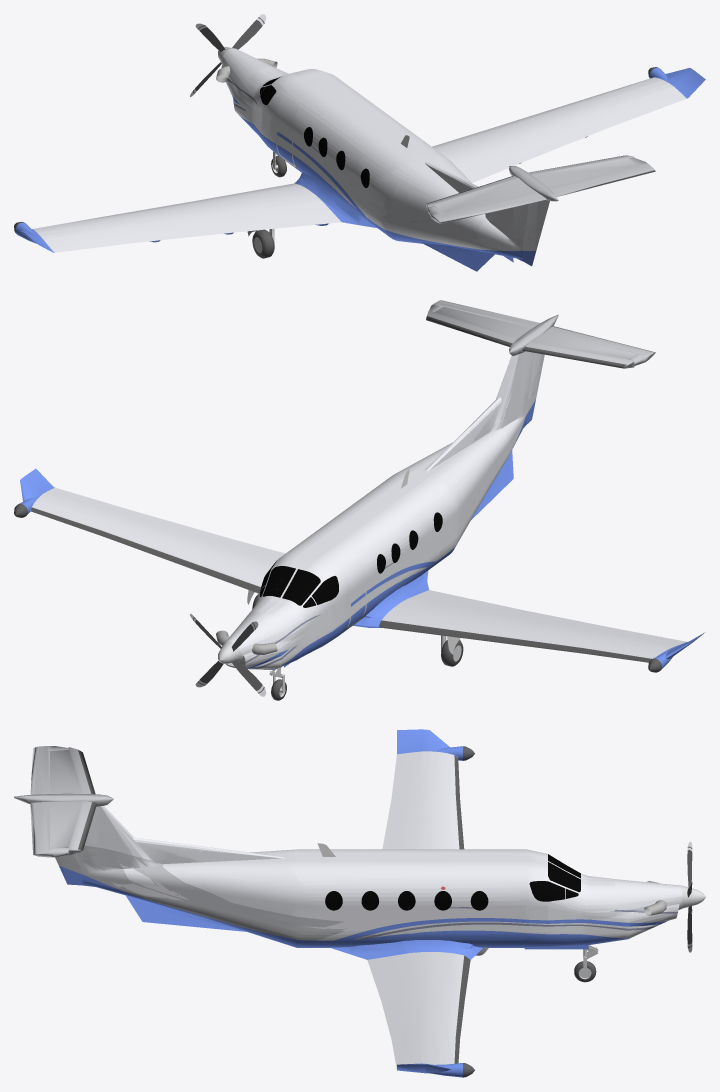
Rendered from pilatus_pc-12_ngx.glb.
3 views of the same model, one above another, from view 1: azimuth 30°, elevation 25°; view 2: azimuth 150°, elevation 25°; view 3: azimuth 270°, elevation 25° (orthographic). The views are drawn at different scales.
Parts seen in each view (by area): view 1: Mesh39_Color_000_0, Mesh14_Color_000_0, Mesh5_Color_000_0, Mesh39_Color_I03_0, Group1, Group20, Group10, Mesh39_Translucent_Glass_Gray_0, Mesh5_Color_I03_0, Mesh11_Color_008_0; view 2: Mesh39_Color_000_0, Mesh14_Color_000_0, Mesh5_Color_000_0, Group1, Mesh39_Color_I03_0, Mesh39_Translucent_Glass_Gray_0, Mesh14_Color_008_0, Mesh5_Color_008_0, Mesh39_Color_008_0, Group20, Group10, Mesh5_Color_I03_0; view 3: Mesh39_Color_000_0, Group1, Mesh39_Color_I03_0, Mesh5_Color_000_0, Mesh14_Color_000_0, Mesh39_Translucent_Glass_Gray_0, Group10, Mesh14_Color_I03_0, Group20, Mesh39_Color_H07_0, Mesh5_Color_008_0.
Part boxes in pixels (x1,y1,x2,y2): Mesh39_Color_000_0: [221, 48, 549, 250]; Mesh14_Color_000_0: [33, 183, 341, 252]; Mesh5_Color_000_0: [432, 77, 686, 182]; Mesh39_Color_I03_0: [230, 92, 536, 271]; Group1: [362, 155, 636, 241]; Group20: [428, 191, 546, 223]; Group10: [548, 158, 655, 196]; Mesh39_Translucent_Glass_Gray_0: [260, 76, 369, 187]; Mesh5_Color_I03_0: [655, 68, 705, 98]; Mesh11_Color_008_0: [252, 229, 274, 258]; Mesh39_Color_000_0: [225, 351, 544, 669]; Mesh14_Color_000_0: [381, 590, 686, 658]; Mesh5_Color_000_0: [32, 487, 285, 586]; Group1: [226, 306, 636, 669]; Mesh39_Color_I03_0: [247, 399, 535, 669]; Mesh39_Translucent_Glass_Gray_0: [260, 512, 442, 607]; Mesh14_Color_008_0: [379, 620, 651, 662]; Mesh5_Color_008_0: [30, 507, 260, 593]; Mesh39_Color_008_0: [426, 316, 626, 368]; Group20: [546, 326, 655, 365]; Group10: [429, 300, 540, 328]; Mesh5_Color_I03_0: [20, 468, 54, 511]; Mesh39_Color_000_0: [84, 806, 682, 940]; Group1: [14, 747, 682, 940]; Mesh39_Color_I03_0: [59, 866, 668, 959]; Mesh5_Color_000_0: [367, 952, 464, 1069]; Mesh14_Color_000_0: [382, 751, 459, 849]; Mesh39_Translucent_Glass_Gray_0: [325, 854, 580, 910]; Group10: [30, 802, 68, 857]; Mesh14_Color_I03_0: [397, 729, 458, 757]; Group20: [30, 746, 68, 794]; Mesh39_Color_H07_0: [359, 922, 657, 939]; Mesh5_Color_008_0: [454, 955, 470, 1063].
Bounding box in the file's own units: 161 × 41.64 × 140.
